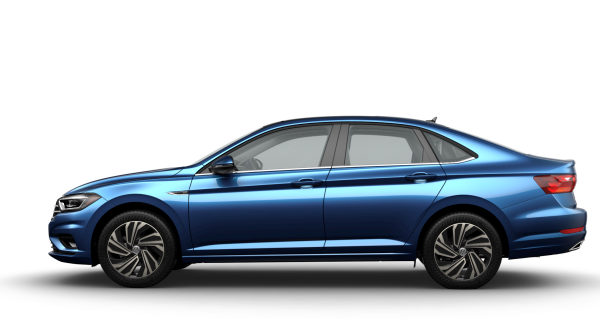car: (42, 104, 594, 288)
